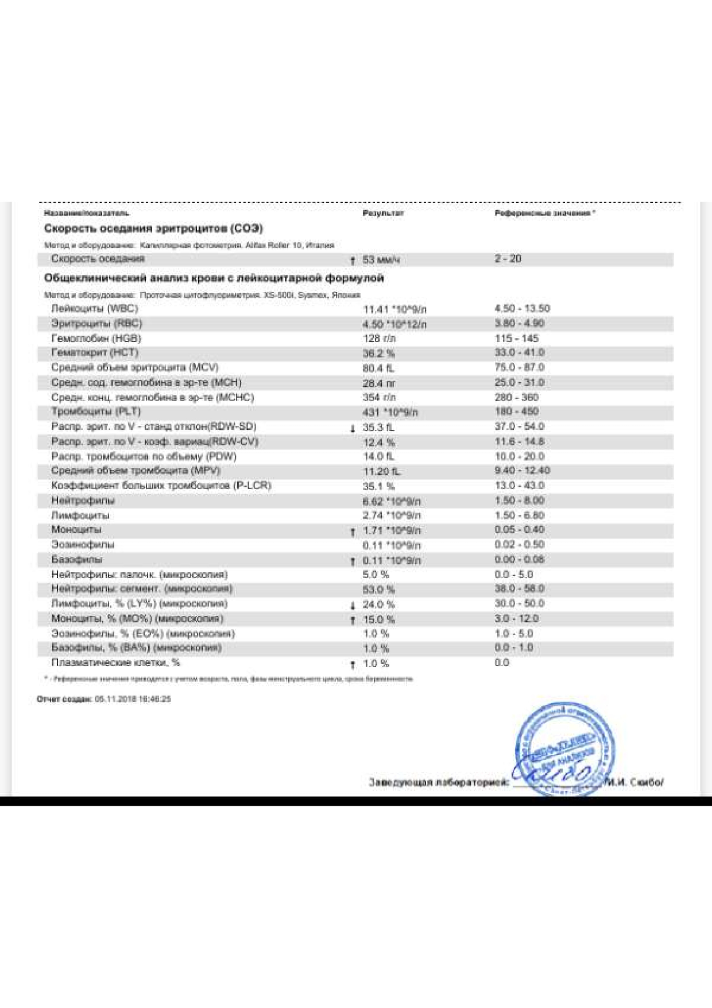column: (50, 302, 272, 667), (361, 302, 427, 667), (493, 302, 551, 667), (50, 252, 146, 265), (494, 208, 591, 217), (43, 208, 130, 217), (361, 252, 401, 265), (362, 208, 404, 217), (494, 252, 522, 265)
